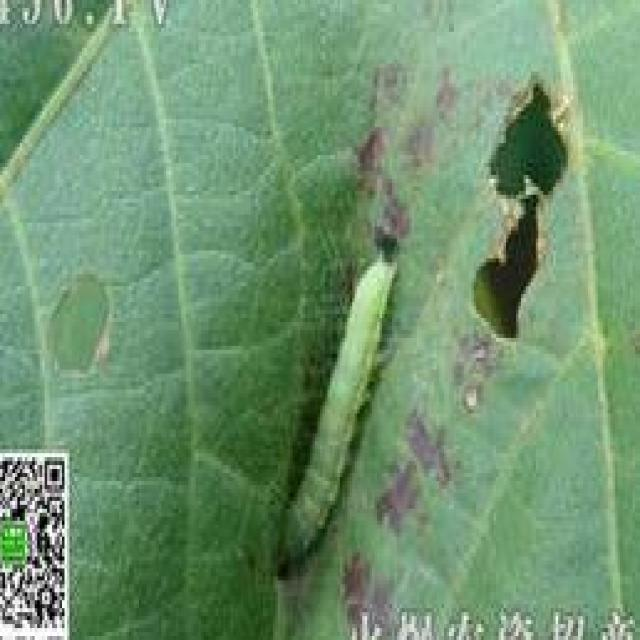BeetArmyWorm-Larva-: (270, 244, 404, 583)
